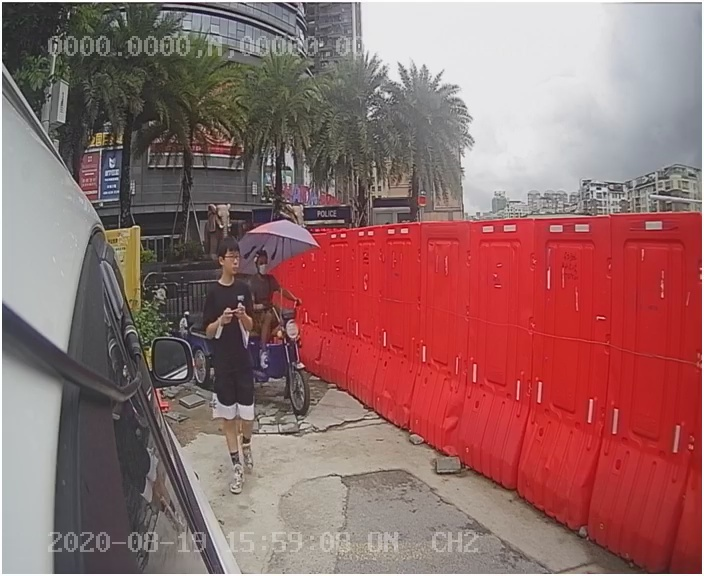person: (199, 239, 272, 495)
